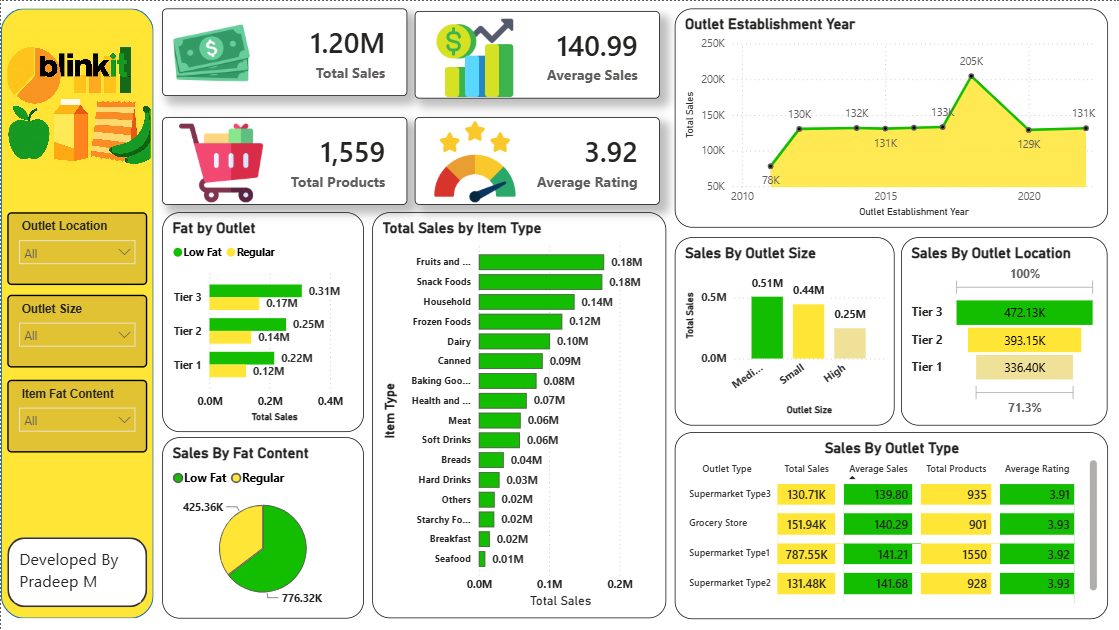

Layout of this report page (visuals, bound fields, positions):
{"tool":"powerbi","page":{"name":"Page 1","canvas":[1280,720],"ordinal":0},"visuals":[{"type":"shape","box":[0,8.6,174.3,697.1],"z":0},{"type":"cardVisual","title":"Total Sales","fields":{"Data":["BlinkIT Grocery Data.Total Sales"]},"box":[184.3,8.6,280,100],"z":1000},{"type":"clusteredBarChart","fields":{"Category":["BlinkIT Grocery Data.Item Type"],"Y":["BlinkIT Grocery Data.Total Sales"]},"box":[424.3,241.4,335.7,464.3],"z":2000},{"type":"pieChart","title":"Sales By Fat Content","fields":{"Category":["BlinkIT Grocery Data.Item Fat Content"],"Y":["BlinkIT Grocery Data.Total Sales"]},"box":[184.3,498.6,230,207.1],"z":3000},{"type":"lineStackedColumnComboChart","title":"Sales By Outlet Size","fields":{"Category":["BlinkIT Grocery Data.Outlet Size"],"Y":["BlinkIT Grocery Data.Total Sales"]},"box":[770,270,251.1,215.4],"z":4000},{"type":"clusteredBarChart","title":"Fat Content by Outlet","fields":{"Category":["BlinkIT Grocery Data.Outlet Location Type"],"Series":["BlinkIT Grocery Data.Item Fat Content"],"Y":["BlinkIT Grocery Data.Total Sales"]},"box":[184.3,241.4,230,251.4],"z":5000},{"type":"lineChart","title":"Sales Trend by Outlet Establishment Year","fields":{"Category":["BlinkIT Grocery Data.Outlet Establishment Year"],"Y":["BlinkIT Grocery Data.Total Sales"]},"box":[770,8.6,500,250],"z":6000},{"type":"funnel","title":"Sales By Outlet Location","fields":{"Category":["BlinkIT Grocery Data.Outlet Location Type"],"Y":["BlinkIT Grocery Data.Total Sales"]},"box":[1028.3,270,240,215.4],"z":7000},{"type":"pivotTable","title":"Sales By Outlet Type","fields":{"Rows":["BlinkIT Grocery Data.Outlet Type"],"Values":["BlinkIT Grocery Data.Total Sales","BlinkIT Grocery Data.Average Sales","BlinkIT Grocery Data.Total Products","BlinkIT Grocery Data.Average Rating"]},"box":[770,493.3,500,213.3],"z":8000},{"type":"cardVisual","title":"Total Products","fields":{"Data":["BlinkIT Grocery Data.Total Products"]},"box":[184.3,132.9,280,100],"z":9000},{"type":"cardVisual","title":"Average Ratings","fields":{"Data":["BlinkIT Grocery Data.Average Rating"]},"box":[472.9,132.9,280,100],"z":10000},{"type":"cardVisual","title":"Average Sales","fields":{"Data":["BlinkIT Grocery Data.Average Sales"]},"box":[472.9,11.4,280,100],"z":11000},{"type":"image","box":[184.3,5.7,112.9,107.1],"z":12000},{"type":"image","box":[184.3,137.1,134.3,95.7],"z":13000},{"type":"image","box":[472.9,135.7,137.1,95.7],"z":14000},{"type":"image","box":[472.9,12.9,137.1,95.7],"z":15000},{"type":"slicer","fields":{"Values":["BlinkIT Grocery Data.Item Fat Content"]},"box":[7.1,432.9,160,82.9],"z":16000},{"type":"slicer","fields":{"Values":["BlinkIT Grocery Data.Outlet Location Type"]},"box":[7.1,241.4,160,82.9],"z":17000},{"type":"slicer","fields":{"Values":["BlinkIT Grocery Data.Outlet Size"]},"box":[7.1,335.7,160,82.9],"z":18000},{"type":"image","box":[7.1,31.4,164.3,161.4],"z":19000},{"type":"shape","box":[7.1,612.9,160,80],"z":20000},{"type":"textbox","box":[15.7,620,144.3,67.1],"z":21000}]}

Visuals, with their boxes in screenshot pixels (x1, y1, x2, y2), scaled from the page's 1280x720 canvas onto the 1119x630 screenshot:
shape: 0, 8, 152, 617
"Total Sales" cardVisual: 161, 8, 406, 95
clusteredBarChart - BlinkIT Grocery Data.Item Type x BlinkIT Grocery Data.Total Sales: 371, 211, 664, 617
"Sales By Fat Content" pieChart: 161, 436, 362, 617
"Sales By Outlet Size" lineStackedColumnComboChart: 673, 236, 893, 425
"Fat Content by Outlet" clusteredBarChart: 161, 211, 362, 431
"Sales Trend by Outlet Establishment Year" lineChart: 673, 8, 1110, 226
"Sales By Outlet Location" funnel: 899, 236, 1109, 425
"Sales By Outlet Type" pivotTable: 673, 432, 1110, 618
"Total Products" cardVisual: 161, 116, 406, 204
"Average Ratings" cardVisual: 413, 116, 658, 204
"Average Sales" cardVisual: 413, 10, 658, 97
image: 161, 5, 260, 99
image: 161, 120, 279, 204
image: 413, 119, 533, 202
image: 413, 11, 533, 95
slicer - BlinkIT Grocery Data.Item Fat Content: 6, 379, 146, 451
slicer - BlinkIT Grocery Data.Outlet Location Type: 6, 211, 146, 284
slicer - BlinkIT Grocery Data.Outlet Size: 6, 294, 146, 366
image: 6, 27, 150, 169
shape: 6, 536, 146, 606
textbox: 14, 542, 140, 601
